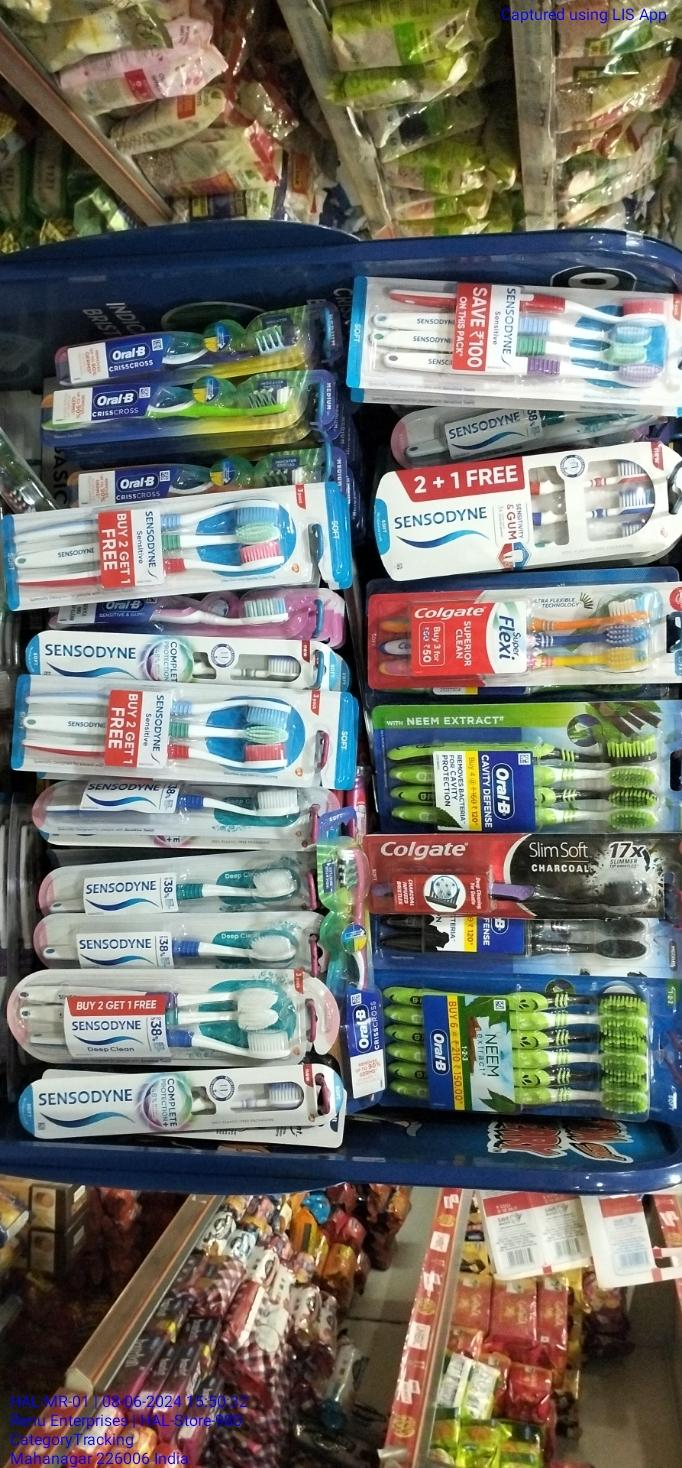14: (133, 0, 182, 722)
16: (208, 0, 273, 655)
5: (449, 749, 489, 1462)
9: (173, 742, 204, 1389), (142, 732, 172, 1369)
soap: (389, 0, 427, 679)
